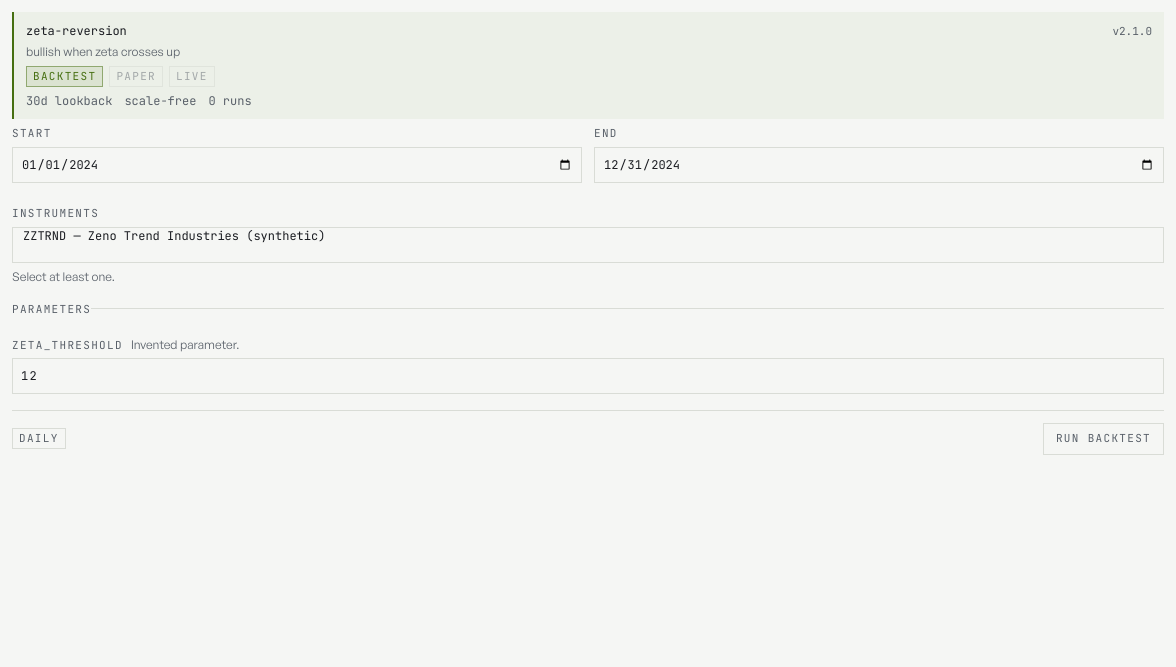
run store › a run started from the form becomes the shared selected run
Select "ZZTRND — Zeno Trend Industries (synthetic)" in the dropdown labelled "Instruments" at (588, 244), box x1=12 y1=226 x2=1164 y2=262
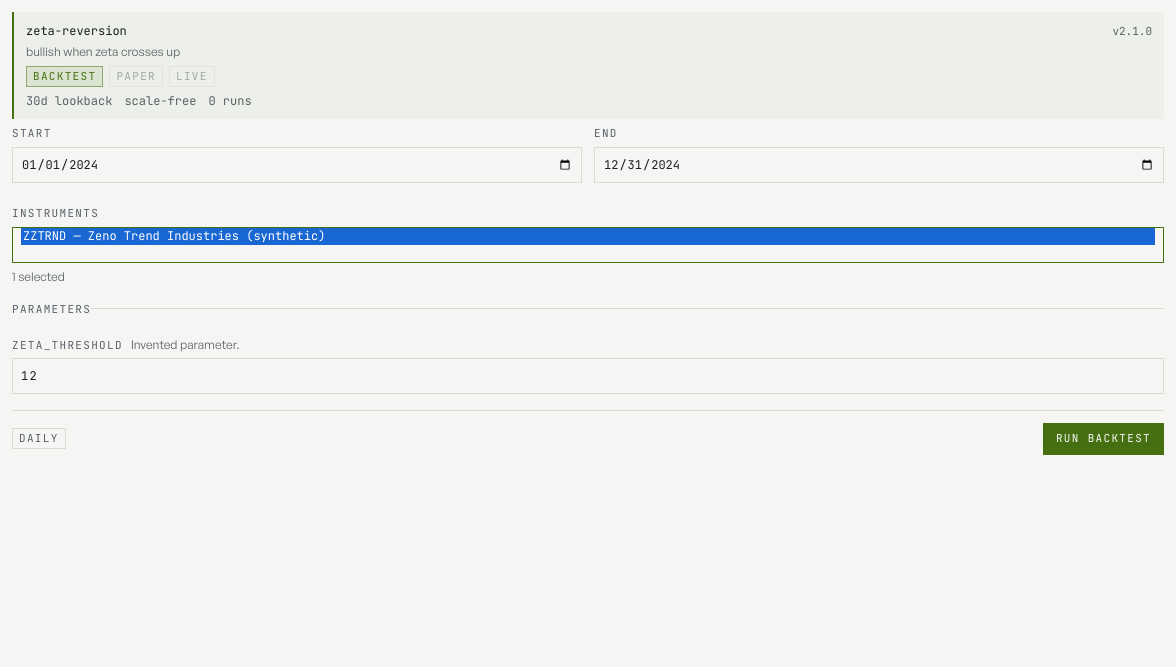
Click the button "Run backtest" at (1104, 438), box x1=1043 y1=422 x2=1164 y2=454
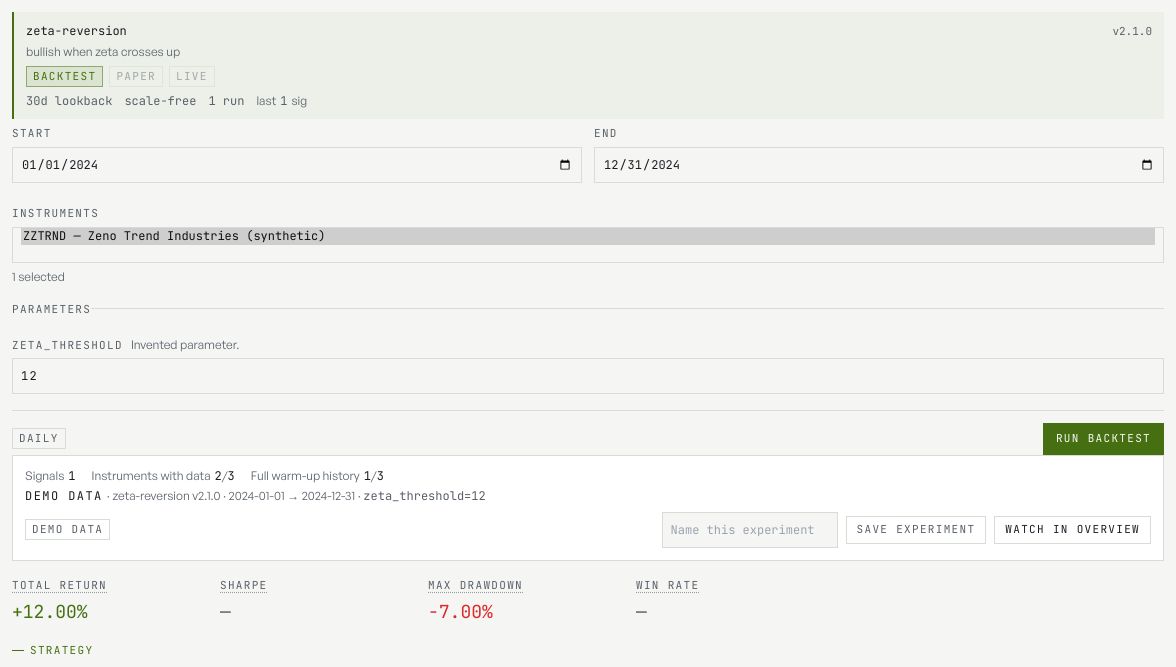
Result: the element with test id "run-coverage" is shown at x1=25 y1=468 x2=384 y2=484
